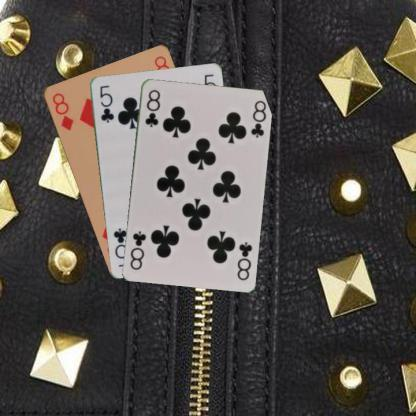5c: (97, 82, 115, 124)
8c: (234, 240, 253, 282), (142, 87, 161, 128)
8d: (49, 90, 75, 132)
